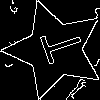T: (30, 25, 86, 68)
